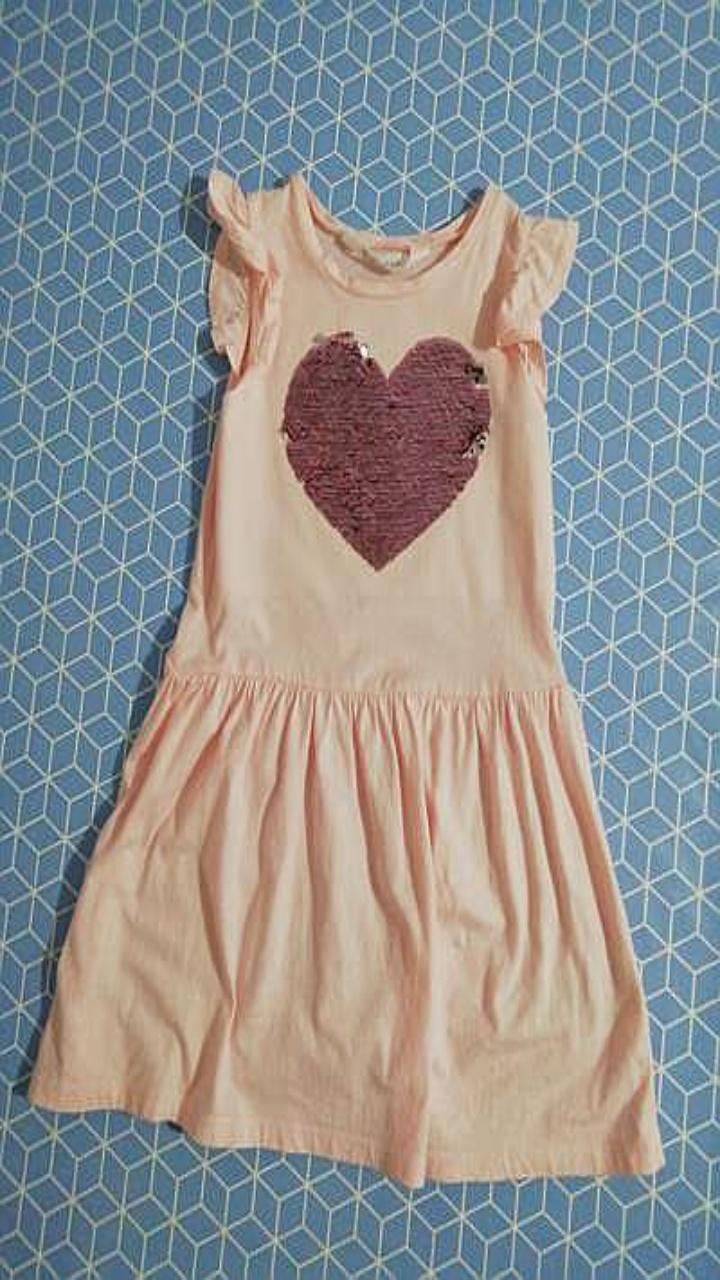Dresses: (30, 170, 663, 1186)
